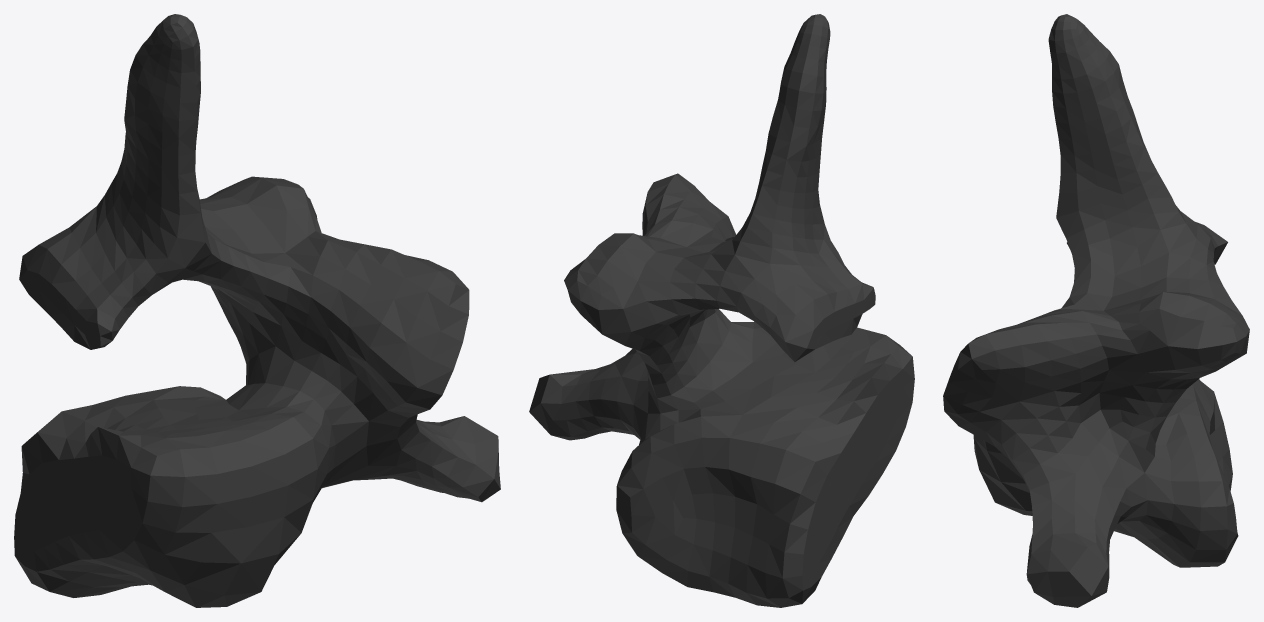
The picture shows the model from 3 angles, left to right: view 1: azimuth 30°, elevation 25°; view 2: azimuth 150°, elevation 25°; view 3: azimuth 270°, elevation 25°; orthographic projection. The views are drawn at different scales.
Visible parts, largest first — view 1: C7; view 2: C7; view 3: C7.
Boxes of the visible parts, bbox=[...] form: C7: bbox=[14, 14, 500, 607]; C7: bbox=[529, 14, 914, 607]; C7: bbox=[943, 14, 1249, 607].
Bounding box in the file's own units: 0.00867 × 0.0131 × 0.00689.
Materials: 1 (1 with a texture image).
